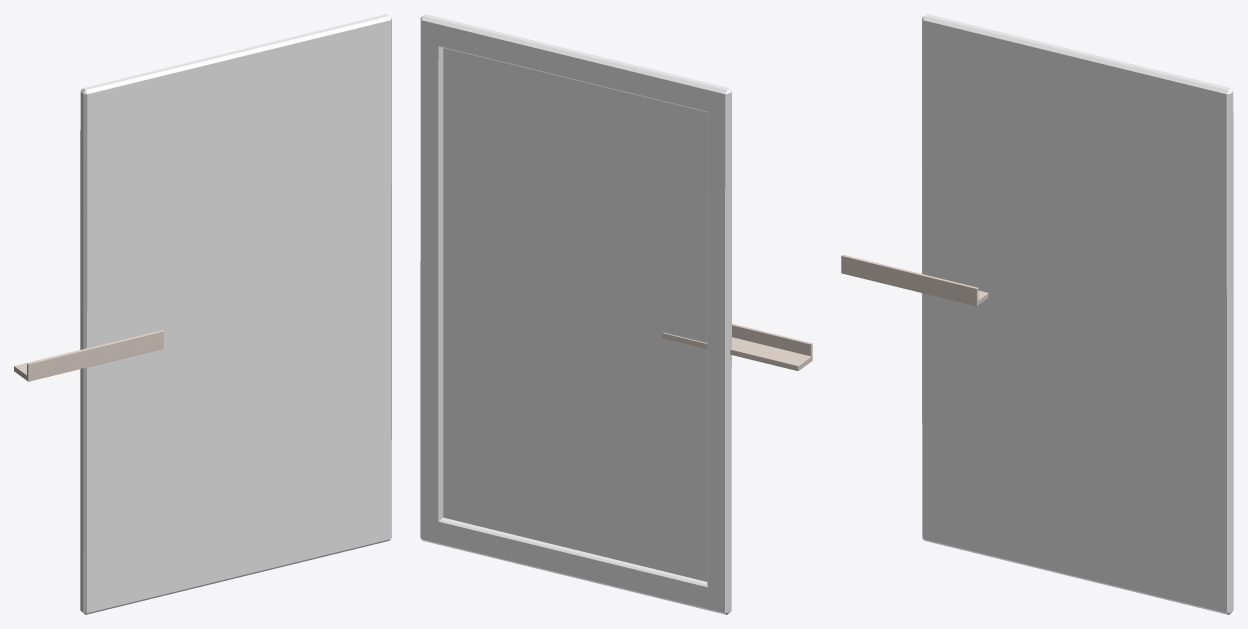
The model's file is Cabinet_f6a86256.obj.
3 renders of one model, left to right at view 1: azimuth 30°, elevation 25°; view 2: azimuth 150°, elevation 25°; view 3: azimuth 330°, elevation 25°, orthographic.
Parts seen in each view (by area): view 1: Mesh_9d4ece6a, handle_3_178mm_01_d45fbe1b; view 2: Mesh_9d4ece6a, handle_3_178mm_01_d45fbe1b; view 3: Mesh_9d4ece6a, handle_3_178mm_01_d45fbe1b.
Boxes of the visible parts, x1=… form: Mesh_9d4ece6a: x1=80, y1=14, x2=391, y2=614; handle_3_178mm_01_d45fbe1b: x1=14, y1=330, x2=163, y2=381; Mesh_9d4ece6a: x1=420, y1=14, x2=731, y2=614; handle_3_178mm_01_d45fbe1b: x1=662, y1=323, x2=812, y2=370; Mesh_9d4ece6a: x1=922, y1=14, x2=1233, y2=614; handle_3_178mm_01_d45fbe1b: x1=841, y1=255, x2=988, y2=306.
Size of the model in its own units: 0.4936 by 0.6574 by 0.0395.
